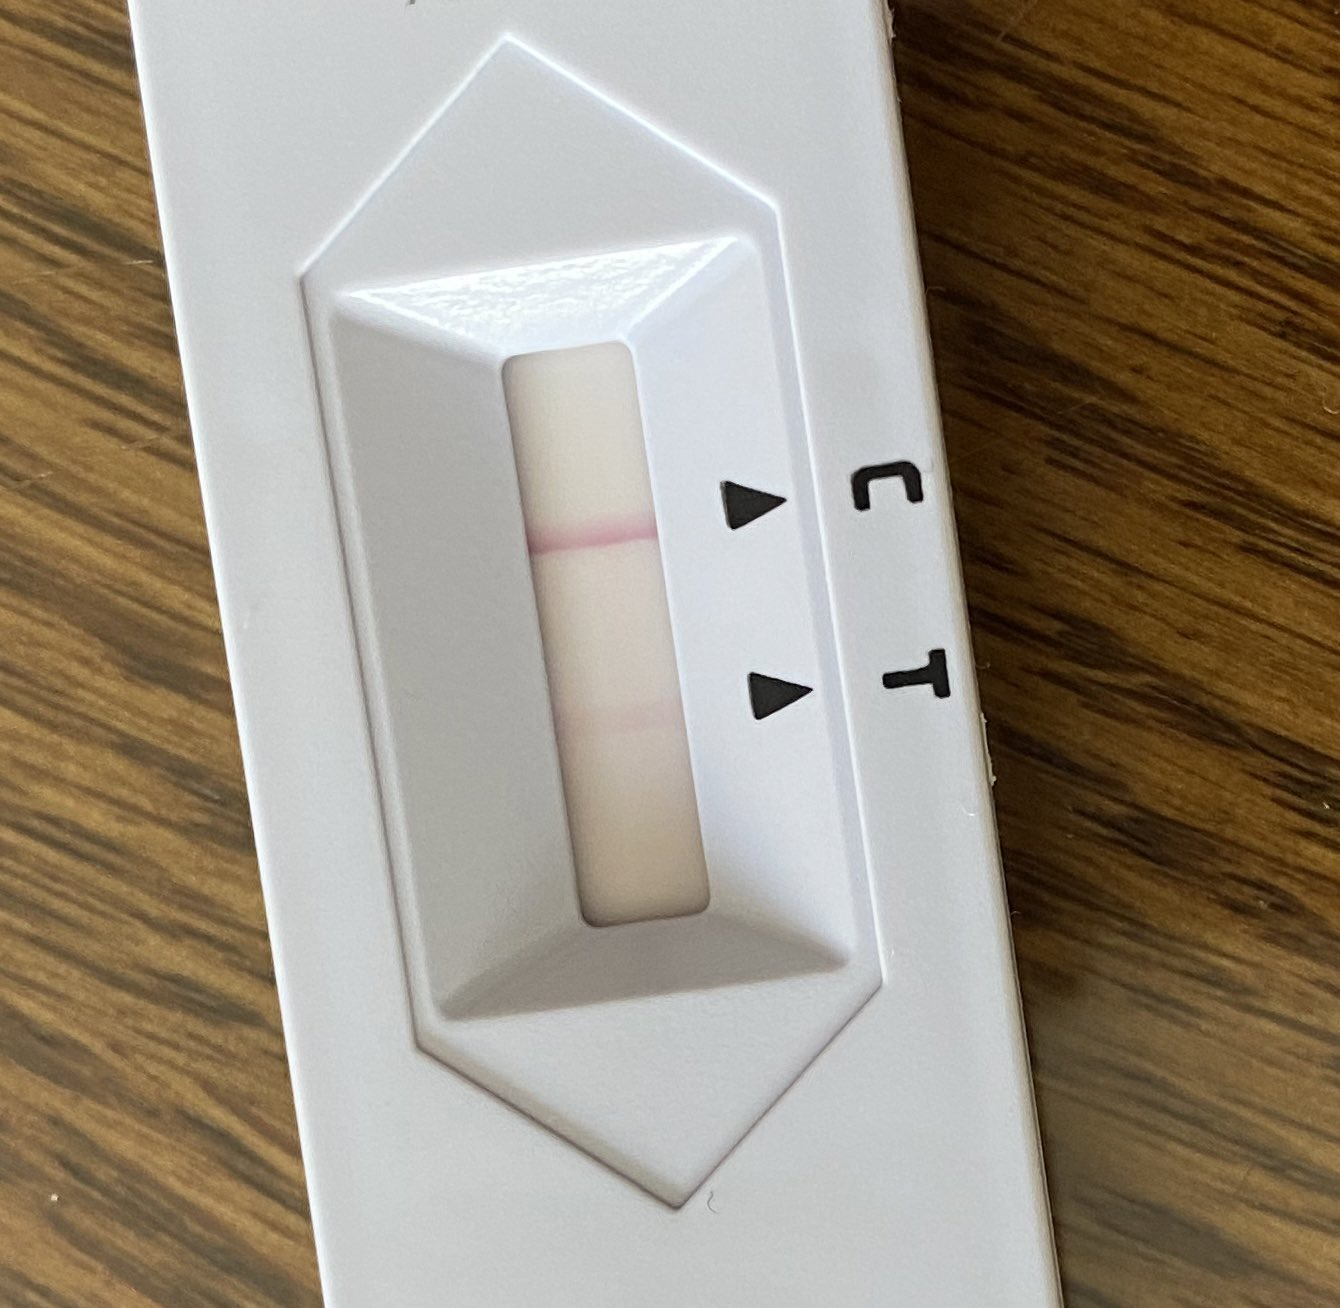positive: (461, 337, 721, 961)
